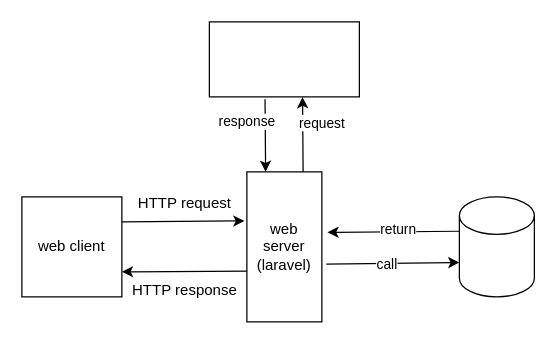
Some shapes in this 556 by 344 pixel diagram are drawn without their labels. The centre of each missing label's shape, as x and y in pixels:
DB: the point at 496,246
web server (flask): the point at 283,59
